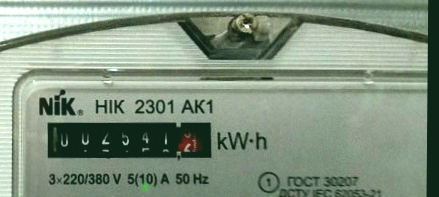0: (57, 127, 70, 148), (78, 125, 91, 146)
1: (159, 124, 171, 147)
2: (98, 124, 113, 147)
4: (139, 124, 151, 145)
5: (118, 125, 132, 148)
6: (181, 140, 192, 152)
screen: (34, 111, 224, 166)
